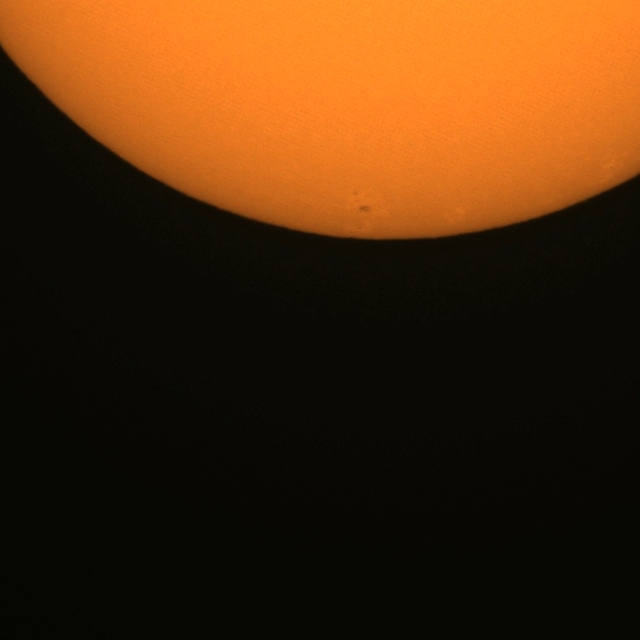sunspot: (351, 189, 370, 214)
